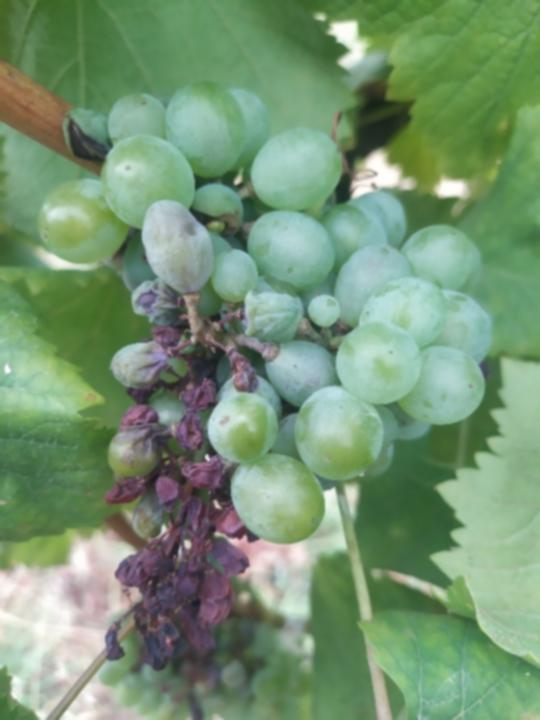grape: (34, 75, 499, 673)
